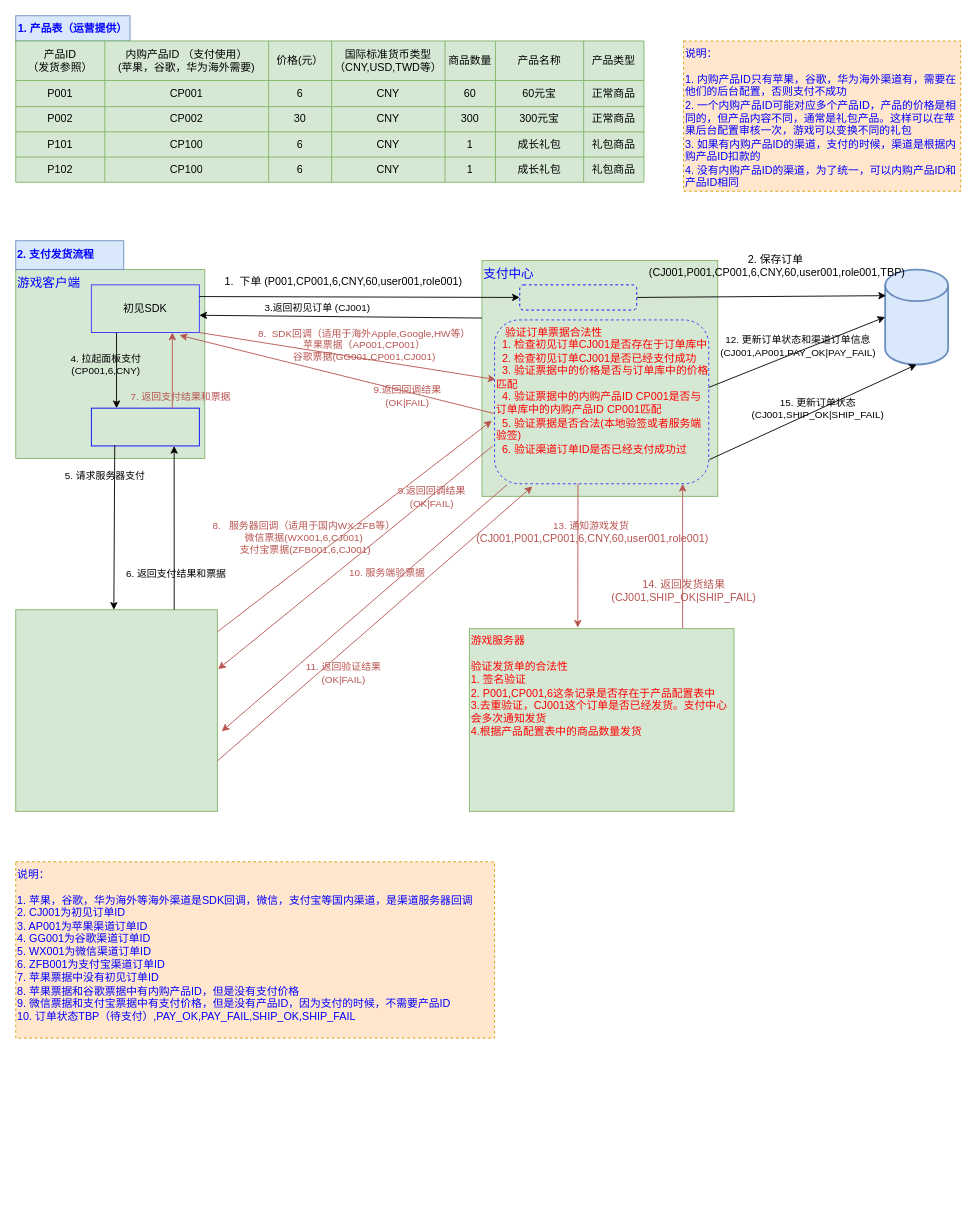
The diagram is 977 pixels wide and 1212 high, and some of its shapes have lost their labels. Here are the shapes that lost their labels. From the top down, the centre of each, then its label:
the point at 578,297: 生成初见订单(CJ001)
the point at 916,316: 订单库
the point at 144,426: 三方支付SDK
the point at 116,710: 三方支付服务器
